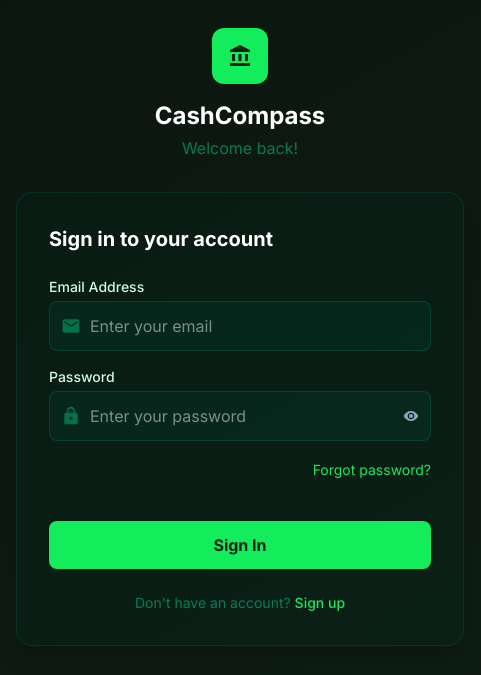
Test: Login Component › shows email validation error for invalid email
Type "invalid-email" into the field with placeholder "Enter your email" at (240, 326), box [49,301,431,351]
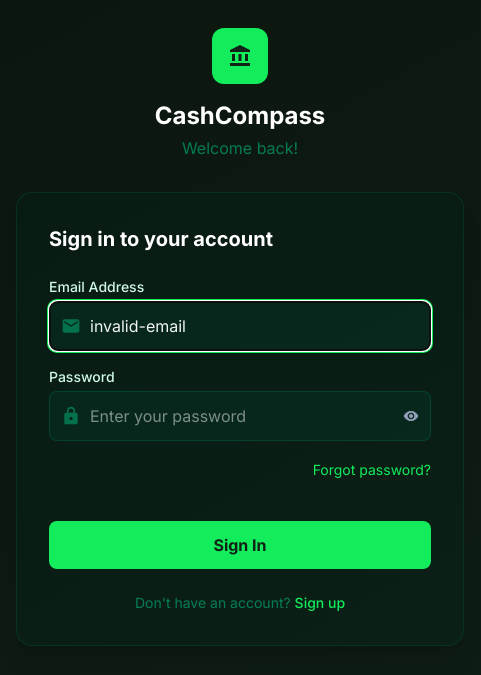
Type "password123" into the password field with placeholder "Enter your password" at (240, 416), box [49,391,431,441]
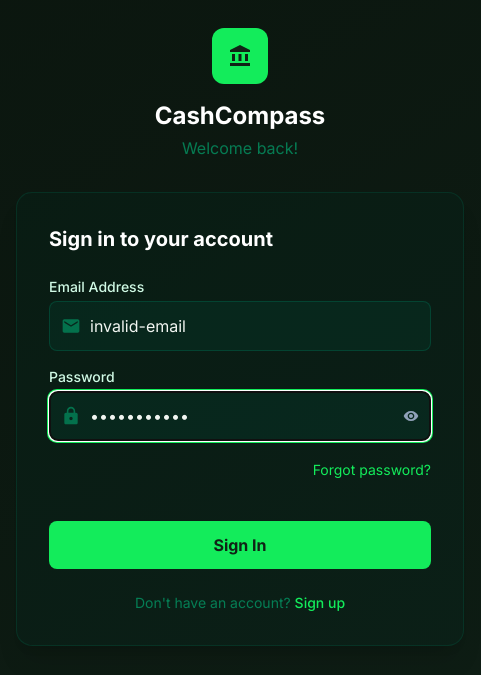
Submit the form "Email Address Password Forgot password? Sign In", box [49,277,431,569]
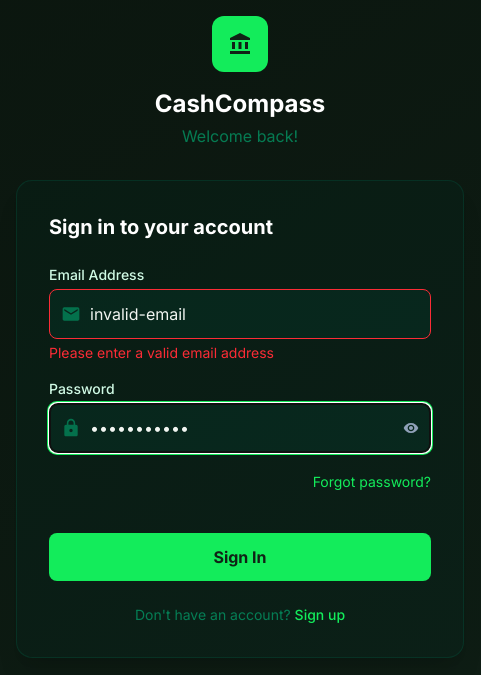
Result: the text "Please enter a valid email address" is shown at [49,344,274,361]
